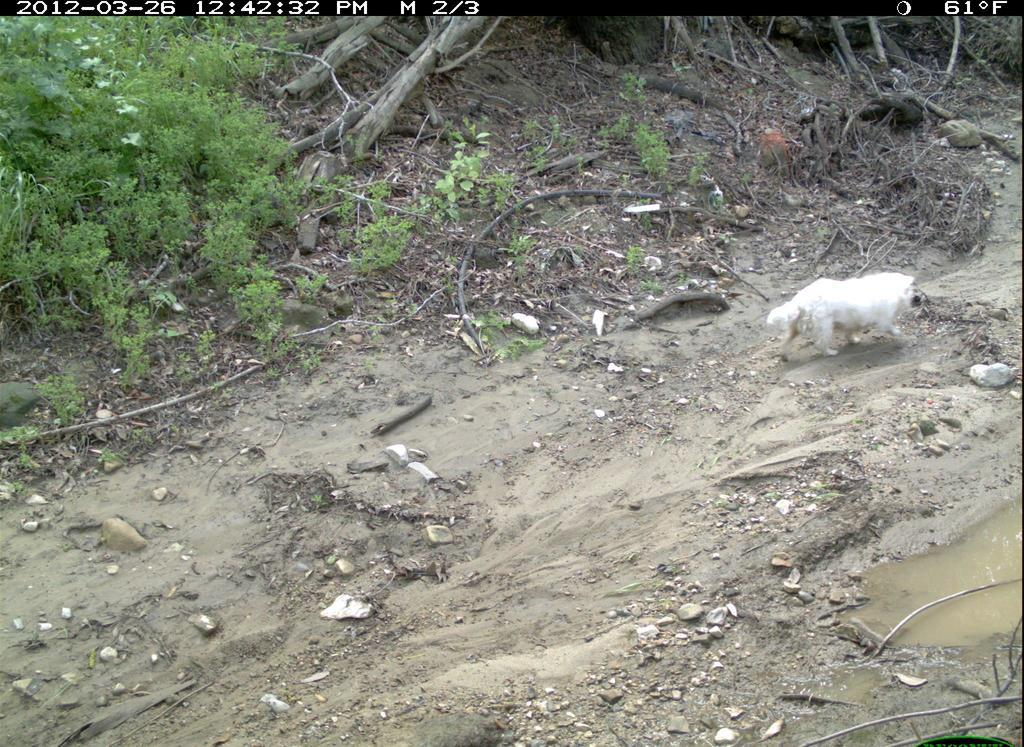dog: (762, 271, 935, 369)
